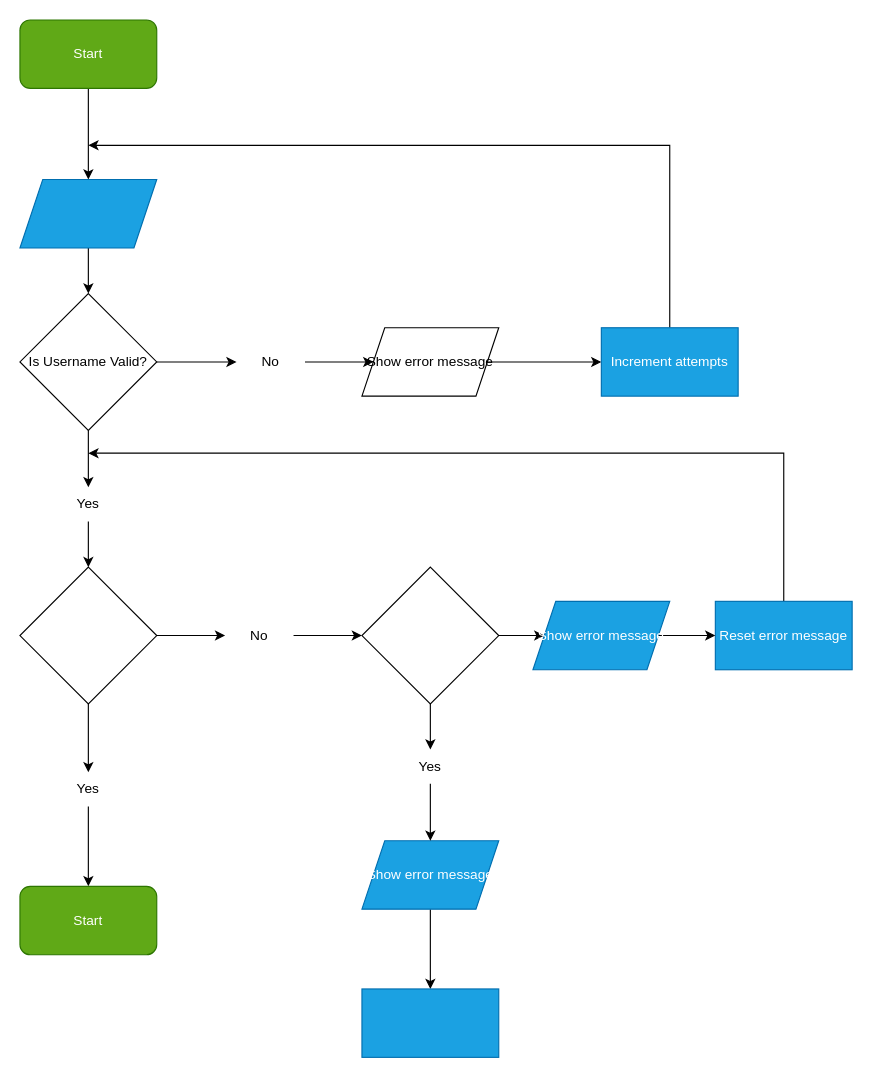
This 872x1077 diagram has some shape labels left out. The box of each missing label's shape, as (x1, y1, x2, y2) in pixels:
Enter the username and password: (19, 178, 157, 248)
Has 3 attempts been exceeded?: (361, 566, 499, 704)
Is password correct?: (19, 566, 157, 704)
Lock account: (361, 988, 499, 1057)
